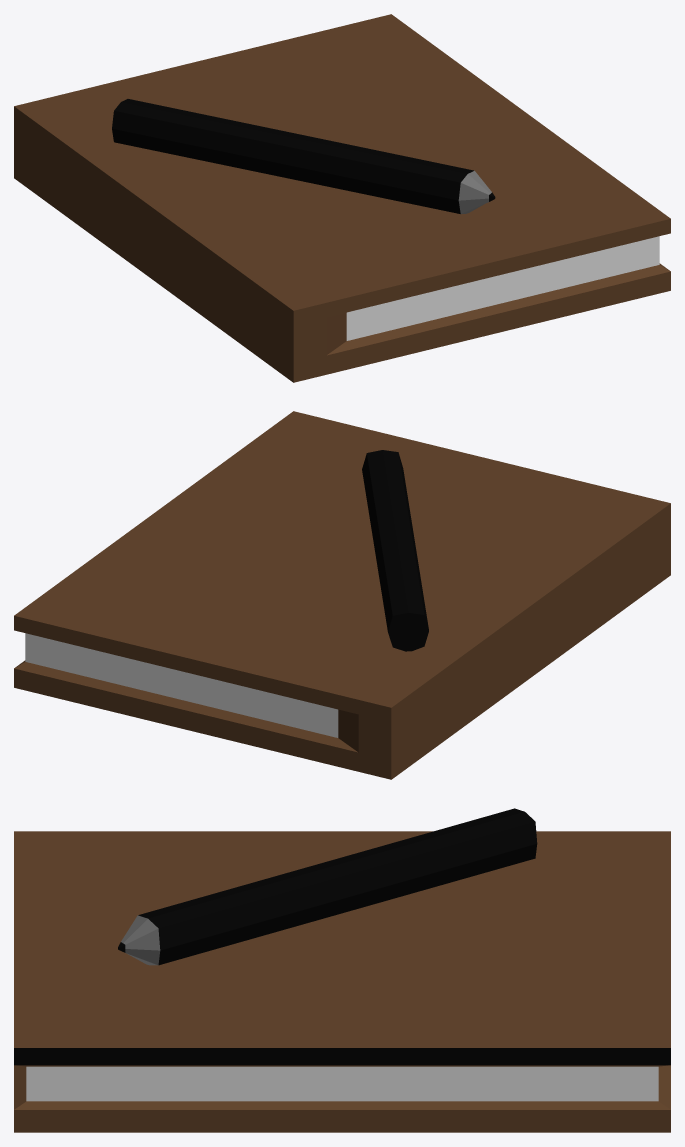
File: CuadernoYLapiz.fbx
The picture shows the model from 3 angles, top to bottom: view 1: azimuth 30°, elevation 25°; view 2: azimuth 150°, elevation 25°; view 3: azimuth 270°, elevation 25°; orthographic projection. The views are drawn at different scales.
Parts seen in each view (by area): view 1: CuadernoYLapiz; view 2: CuadernoYLapiz; view 3: CuadernoYLapiz.
Boxes of the visible parts, x1,y1,x2,y2 form: CuadernoYLapiz: [14, 14, 670, 382]; CuadernoYLapiz: [14, 411, 670, 779]; CuadernoYLapiz: [14, 808, 670, 1132].
Size of the model in its own units: 94.82 by 26.56 by 122.
